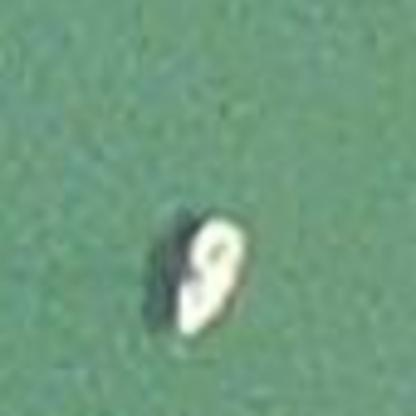ship: (132, 195, 260, 341)
